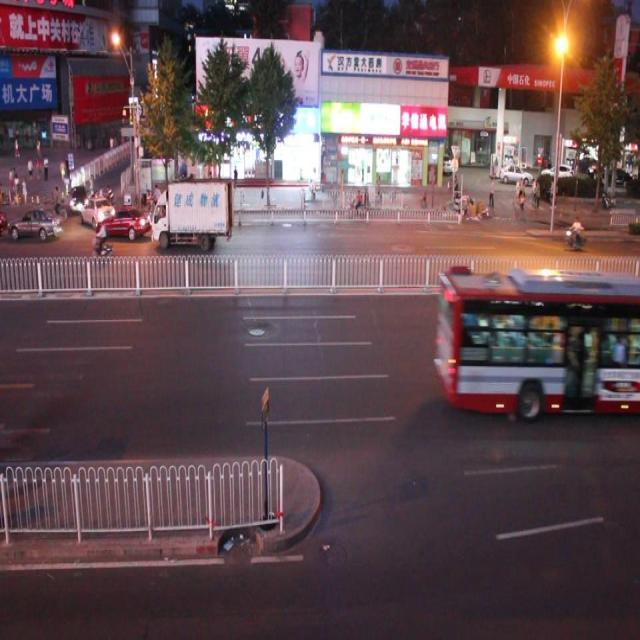bus: (151, 181, 233, 248)
car: (166, 185, 223, 232), (11, 202, 65, 241), (98, 206, 150, 238), (81, 195, 115, 228), (70, 183, 90, 214)
van: (438, 272, 640, 406)
